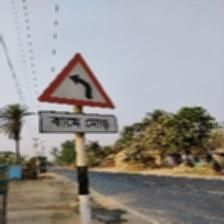Left-Turn: (36, 52, 119, 135)
